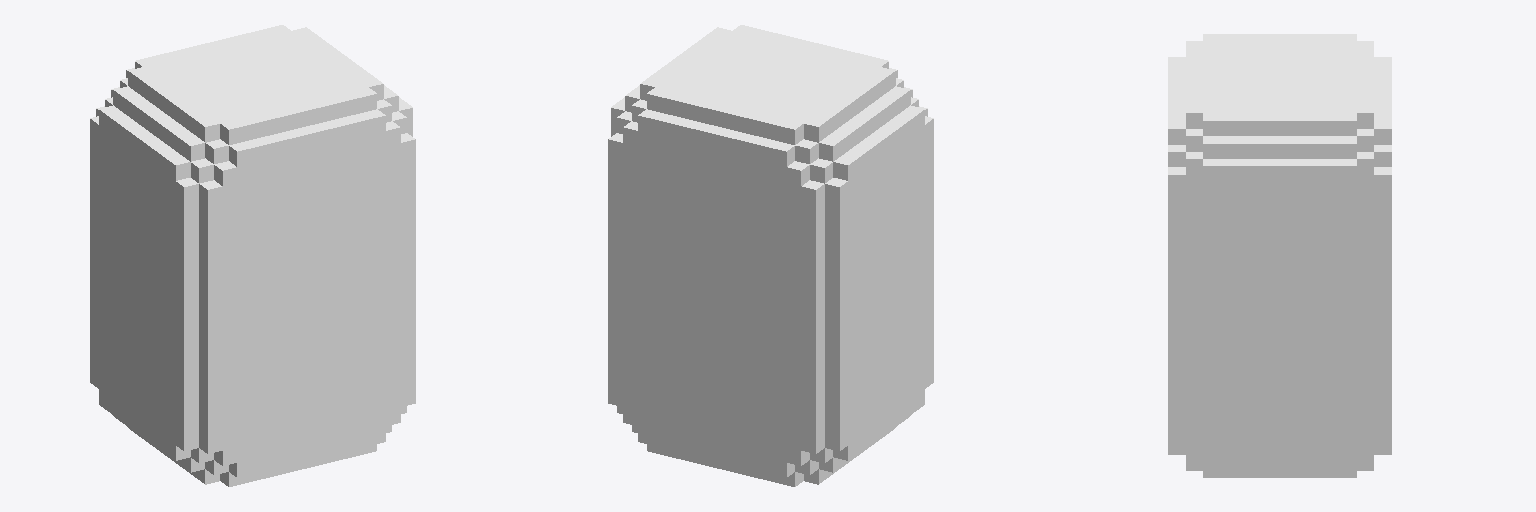
The model's file is GuardFaceless_RHand.obj.
3 views of the same model, side by side, from view 1: azimuth 30°, elevation 25°; view 2: azimuth 150°, elevation 25°; view 3: azimuth 270°, elevation 25° (orthographic).
Bounding box in the file's own units: 16 × 23 × 13.